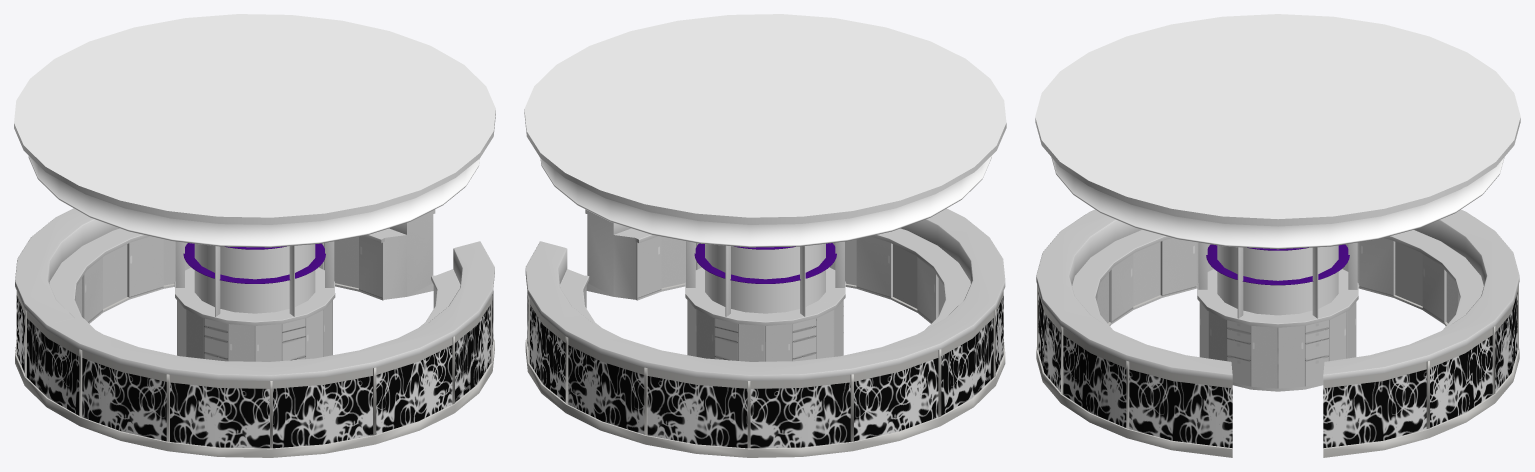
The model's file is Bar04_2.FBX.
3 renders of one model, left to right at view 1: azimuth 30°, elevation 25°; view 2: azimuth 150°, elevation 25°; view 3: azimuth 270°, elevation 25°, orthographic.
Parts seen in each view (by area): view 1: Bar04_2, Glass; view 2: Bar04_2, Glass; view 3: Bar04_2, Glass.
Boxes of the visible parts, left/top/right/bottom form: Bar04_2: left=14, top=14, right=495, bottom=457; Glass: left=183, top=243, right=325, bottom=283; Bar04_2: left=524, top=14, right=1006, bottom=457; Glass: left=694, top=243, right=836, bottom=283; Bar04_2: left=1035, top=14, right=1520, bottom=457; Glass: left=1206, top=244, right=1349, bottom=285.
Bounding box in the file's own units: 637 × 350 × 637.
